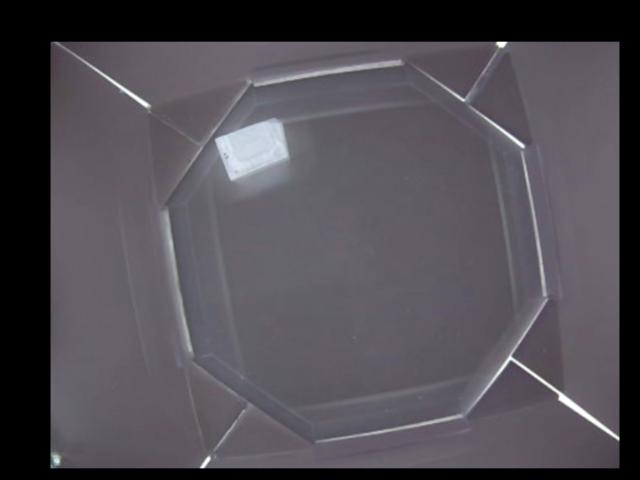China: (215, 117, 291, 176)
